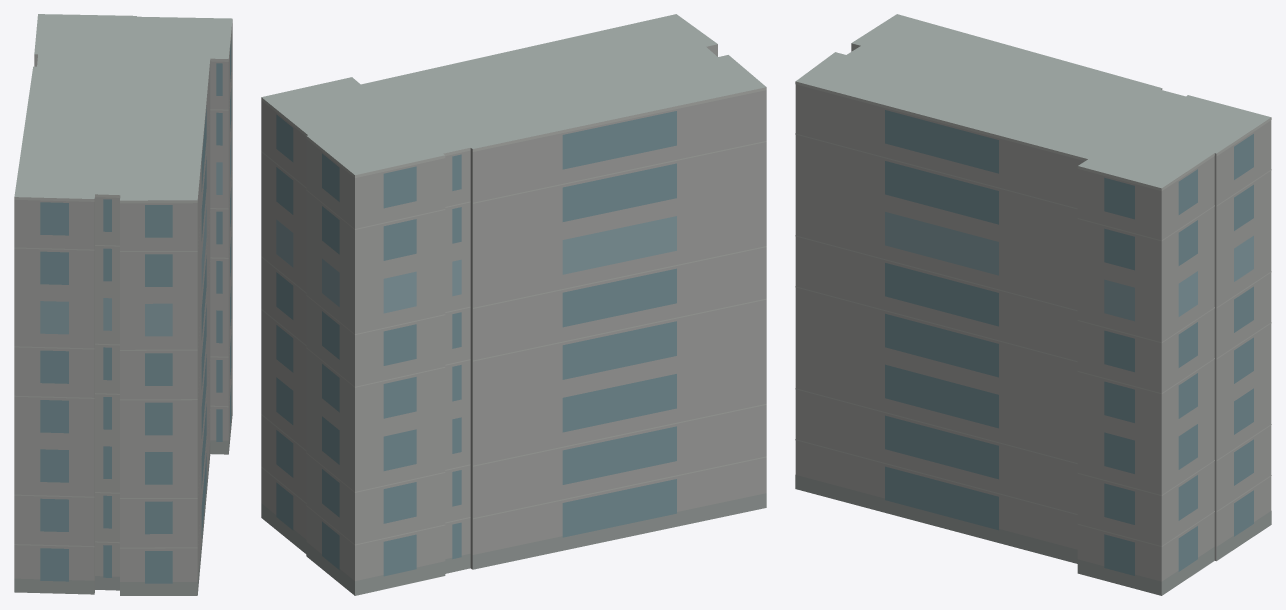
File: survey-upis-32747126.glb
3 renders of one model, left to right at view 1: azimuth 30°, elevation 25°; view 2: azimuth 150°, elevation 25°; view 3: azimuth 270°, elevation 25°, orthographic. The views are drawn at different scales.
Visible parts, largest first — view 1: survey-upis-32747126.tmp; view 2: survey-upis-32747126.tmp; view 3: survey-upis-32747126.tmp.
Part boxes in pixels (x1,y1,x2,y2): survey-upis-32747126.tmp: (14,14,232,595); survey-upis-32747126.tmp: (261,14,766,595); survey-upis-32747126.tmp: (795,14,1271,595).
Size of the model in its own units: 31.95 by 34.8 by 36.85.
